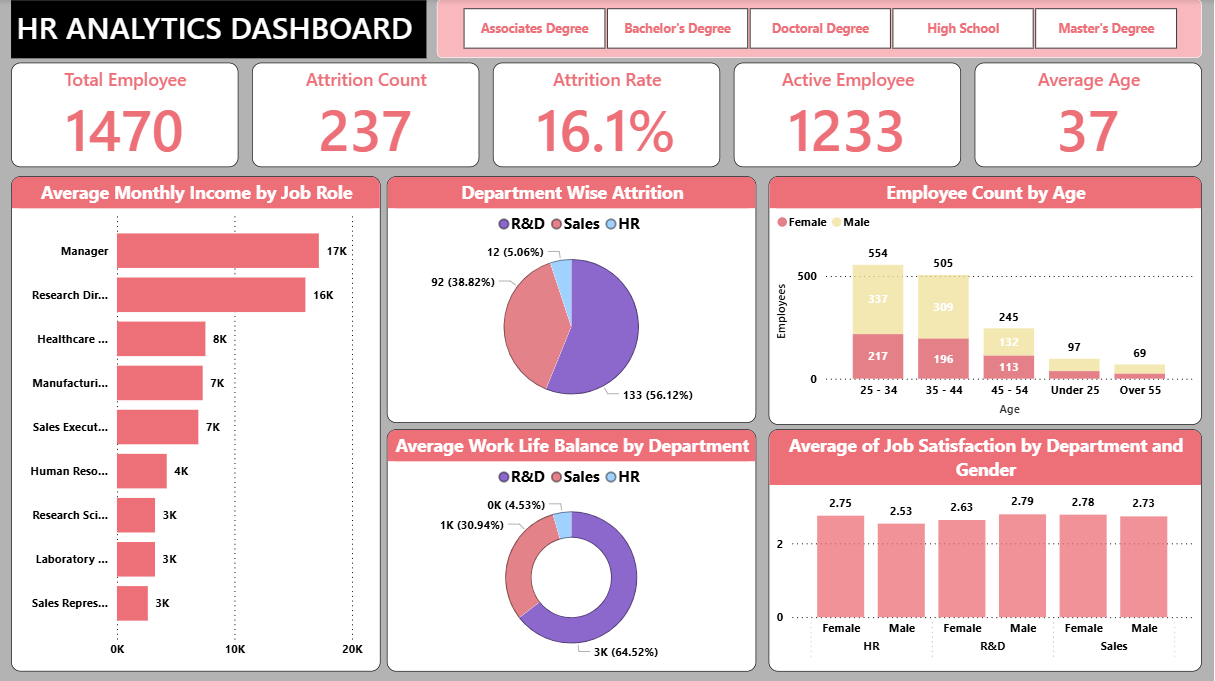

This screenshot's page, from the dashboard's own definition file:
{"tool":"powerbi","page":{"name":"Dashboard 1","canvas":[1280,720],"ordinal":0},"visuals":[{"type":"card","title":"Total Employee","fields":{"Values":["Sum(HR Data xlsx - HR data.Employee Count)"]},"box":[12.8,67.1,239.6,110.2],"z":0},{"type":"card","title":"Attrition Count","fields":{"Values":["Sum(HR Data xlsx - HR data.Atrition Count)"]},"box":[266.7,67.1,239.6,110.2],"z":1000},{"type":"card","title":"Attrition Rate","fields":{"Values":["HR Data xlsx - HR data.Attrition Rate"]},"box":[520.7,67.1,239.6,110.2],"z":2000},{"type":"card","title":"Active Employee","fields":{"Values":["HR data.Active Employees"]},"box":[774.7,67.1,239.6,110.2],"z":3000},{"type":"card","title":"Average Age","fields":{"Values":["Avg(HR data.Age)"]},"box":[1028.6,67.1,239.6,110.2],"z":4000},{"type":"pieChart","title":"Department Wise Attrition","fields":{"Category":["HR data.Department"],"Y":["Sum(HR data.Attrition Count)"]},"box":[408.9,186.9,389.7,260.3],"z":5000},{"type":"columnChart","title":"Employee Count by Age","fields":{"Category":["HR data.CF_age band"],"Y":["Sum(HR data.Employee Count)"],"Series":["HR data.Gender"]},"box":[811.4,186.9,456.8,261.9],"z":6000},{"type":"barChart","title":"Average Monthly Income by Job Role","fields":{"Category":["HR data.Job Role"],"Y":["Avg(HR data.Monthly Income)"]},"box":[12.8,186.9,389.7,522.3],"z":7000},{"type":"clusteredColumnChart","fields":{"Category":["HR data.Department","HR data.Gender"],"Y":["Avg(HR data.Job Satisfaction)"]},"box":[811.4,453.6,456.8,255.6],"z":8000},{"type":"donutChart","title":"Average Work Life Balance by Department","fields":{"Category":["HR data.Department"],"Y":["Sum(HR data.Work Life Balance)"]},"box":[408.9,453.6,389.7,255.6],"z":9000},{"type":"textbox","box":[12.8,1.6,437.6,60.7],"z":10000},{"type":"slicer","fields":{"Values":["HR data.Education"]},"box":[461.6,0,806.6,62.3],"z":11000}]}

Visuals, with their boxes in screenshot pixels (x1, y1, x2, y2), scaled from the page's 1280x720 canvas onto the 1215x681 screenshot:
"Total Employee" card: (x1=12, y1=63, x2=240, y2=168)
"Attrition Count" card: (x1=253, y1=63, x2=481, y2=168)
"Attrition Rate" card: (x1=494, y1=63, x2=722, y2=168)
"Active Employee" card: (x1=735, y1=63, x2=963, y2=168)
"Average Age" card: (x1=976, y1=63, x2=1204, y2=168)
"Department Wise Attrition" pieChart: (x1=388, y1=177, x2=758, y2=423)
"Employee Count by Age" columnChart: (x1=770, y1=177, x2=1204, y2=424)
"Average Monthly Income by Job Role" barChart: (x1=12, y1=177, x2=382, y2=671)
clusteredColumnChart - HR data.Department x HR data.Gender: (x1=770, y1=429, x2=1204, y2=671)
"Average Work Life Balance by Department" donutChart: (x1=388, y1=429, x2=758, y2=671)
textbox: (x1=12, y1=2, x2=428, y2=59)
slicer - HR data.Education: (x1=438, y1=0, x2=1204, y2=59)
